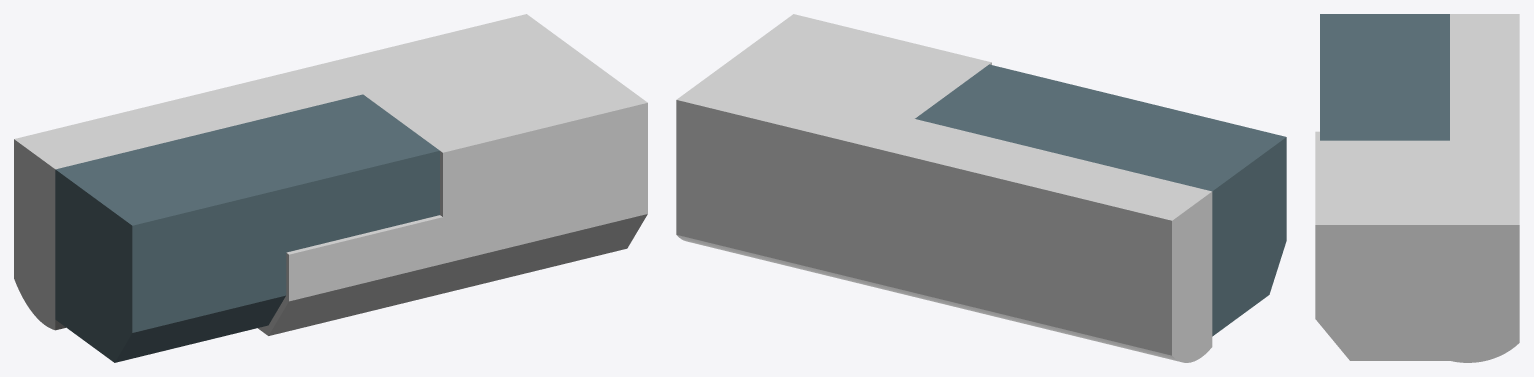
Rendered from cnc_lathe_machine_1_state_2.dae.
3 renders of one model, left to right at view 1: azimuth 30°, elevation 25°; view 2: azimuth 150°, elevation 25°; view 3: azimuth 270°, elevation 25°, orthographic. The views are drawn at different scales.
Visible parts, largest first — view 1: coords_ME_ID19_MA_material_8, coords_ME_ID65_MA_material_16; view 2: coords_ME_ID19_MA_material_8, coords_ME_ID65_MA_material_16; view 3: coords_ME_ID19_MA_material_8, coords_ME_ID65_MA_material_16.
Part boxes in pixels (bbox=[...]): coords_ME_ID19_MA_material_8: bbox=[14, 14, 647, 335]; coords_ME_ID65_MA_material_16: bbox=[55, 94, 439, 362]; coords_ME_ID19_MA_material_8: bbox=[676, 14, 1212, 362]; coords_ME_ID65_MA_material_16: bbox=[915, 64, 1286, 336]; coords_ME_ID19_MA_material_8: bbox=[1315, 14, 1519, 362]; coords_ME_ID65_MA_material_16: bbox=[1320, 14, 1449, 140].
Bounding box in the file's own units: 66.93 × 20.75 × 27.41.
